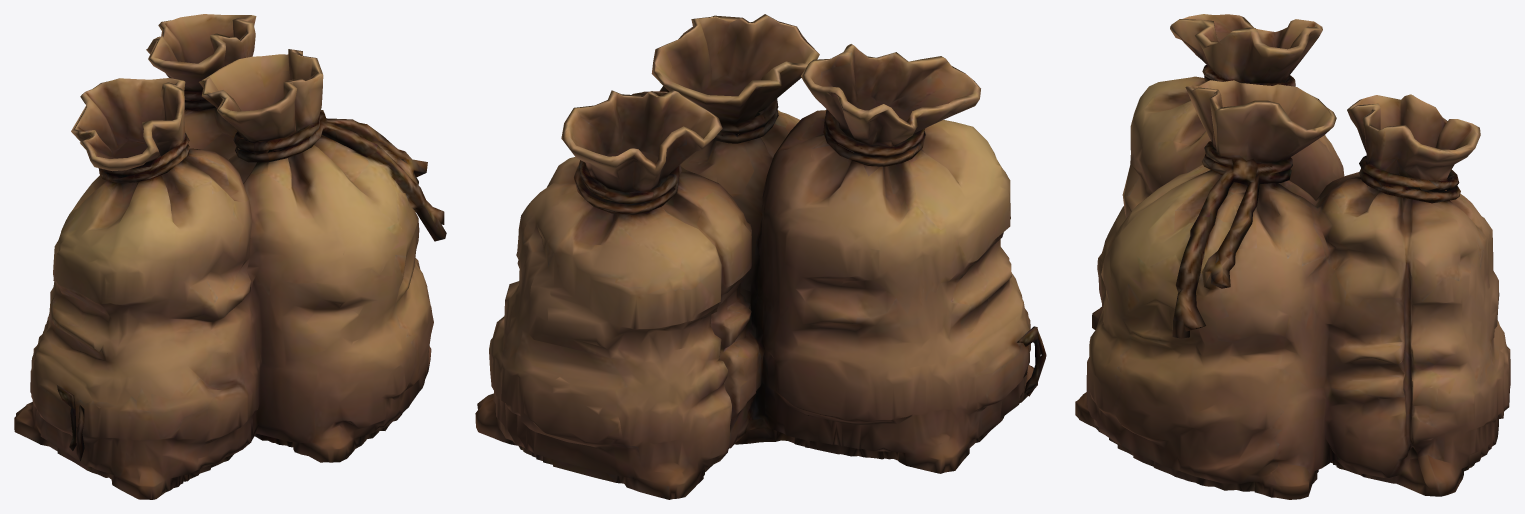
Rendered from sacks.glb.
3 renders of one model, left to right at view 1: azimuth 30°, elevation 25°; view 2: azimuth 150°, elevation 25°; view 3: azimuth 270°, elevation 25°, orthographic. The views are drawn at different scales.
Parts seen in each view (by area): view 1: tripo_node_02b65f62-124e-4958-9407-6ac4b34a0ffd; view 2: tripo_node_02b65f62-124e-4958-9407-6ac4b34a0ffd; view 3: tripo_node_02b65f62-124e-4958-9407-6ac4b34a0ffd.
Part boxes in pixels (box(x1,y1,x2,y2)): tripo_node_02b65f62-124e-4958-9407-6ac4b34a0ffd: box(14, 14, 446, 499); tripo_node_02b65f62-124e-4958-9407-6ac4b34a0ffd: box(475, 14, 1046, 499); tripo_node_02b65f62-124e-4958-9407-6ac4b34a0ffd: box(1075, 14, 1510, 499).
Size of the model in its own units: 1 by 0.816 by 0.9367.
Materials: 1 (1 with a texture image).
